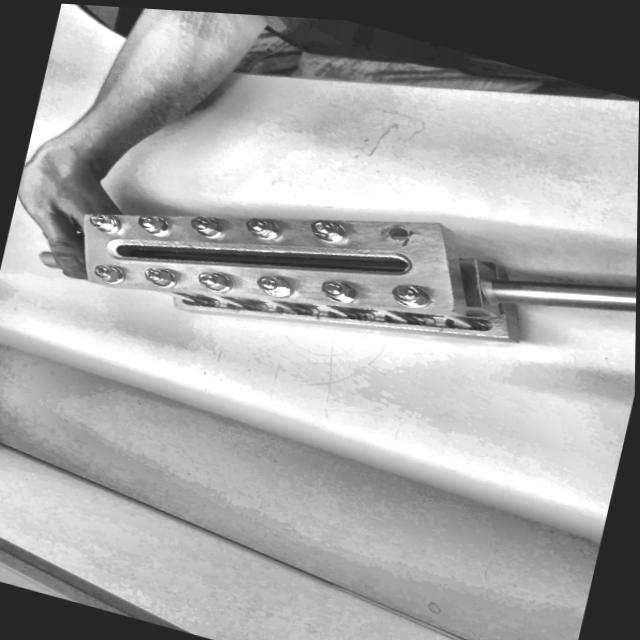ShuiWeiQi_11: (71, 124, 572, 417)
